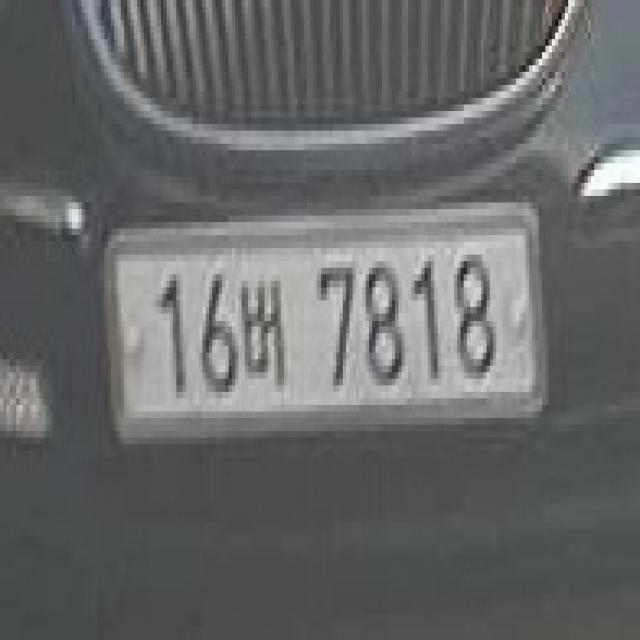1: (408, 242, 451, 398), (153, 261, 196, 405)
6: (200, 255, 238, 411)
7: (310, 255, 359, 405)
8: (451, 242, 506, 398), (359, 248, 412, 398)
beo: (238, 262, 294, 398)
license_plate: (95, 183, 555, 477)
